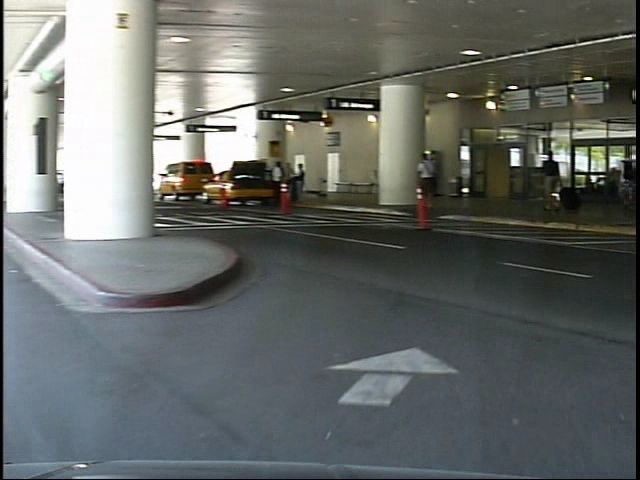person: (544, 148, 572, 223), (420, 149, 446, 215)
